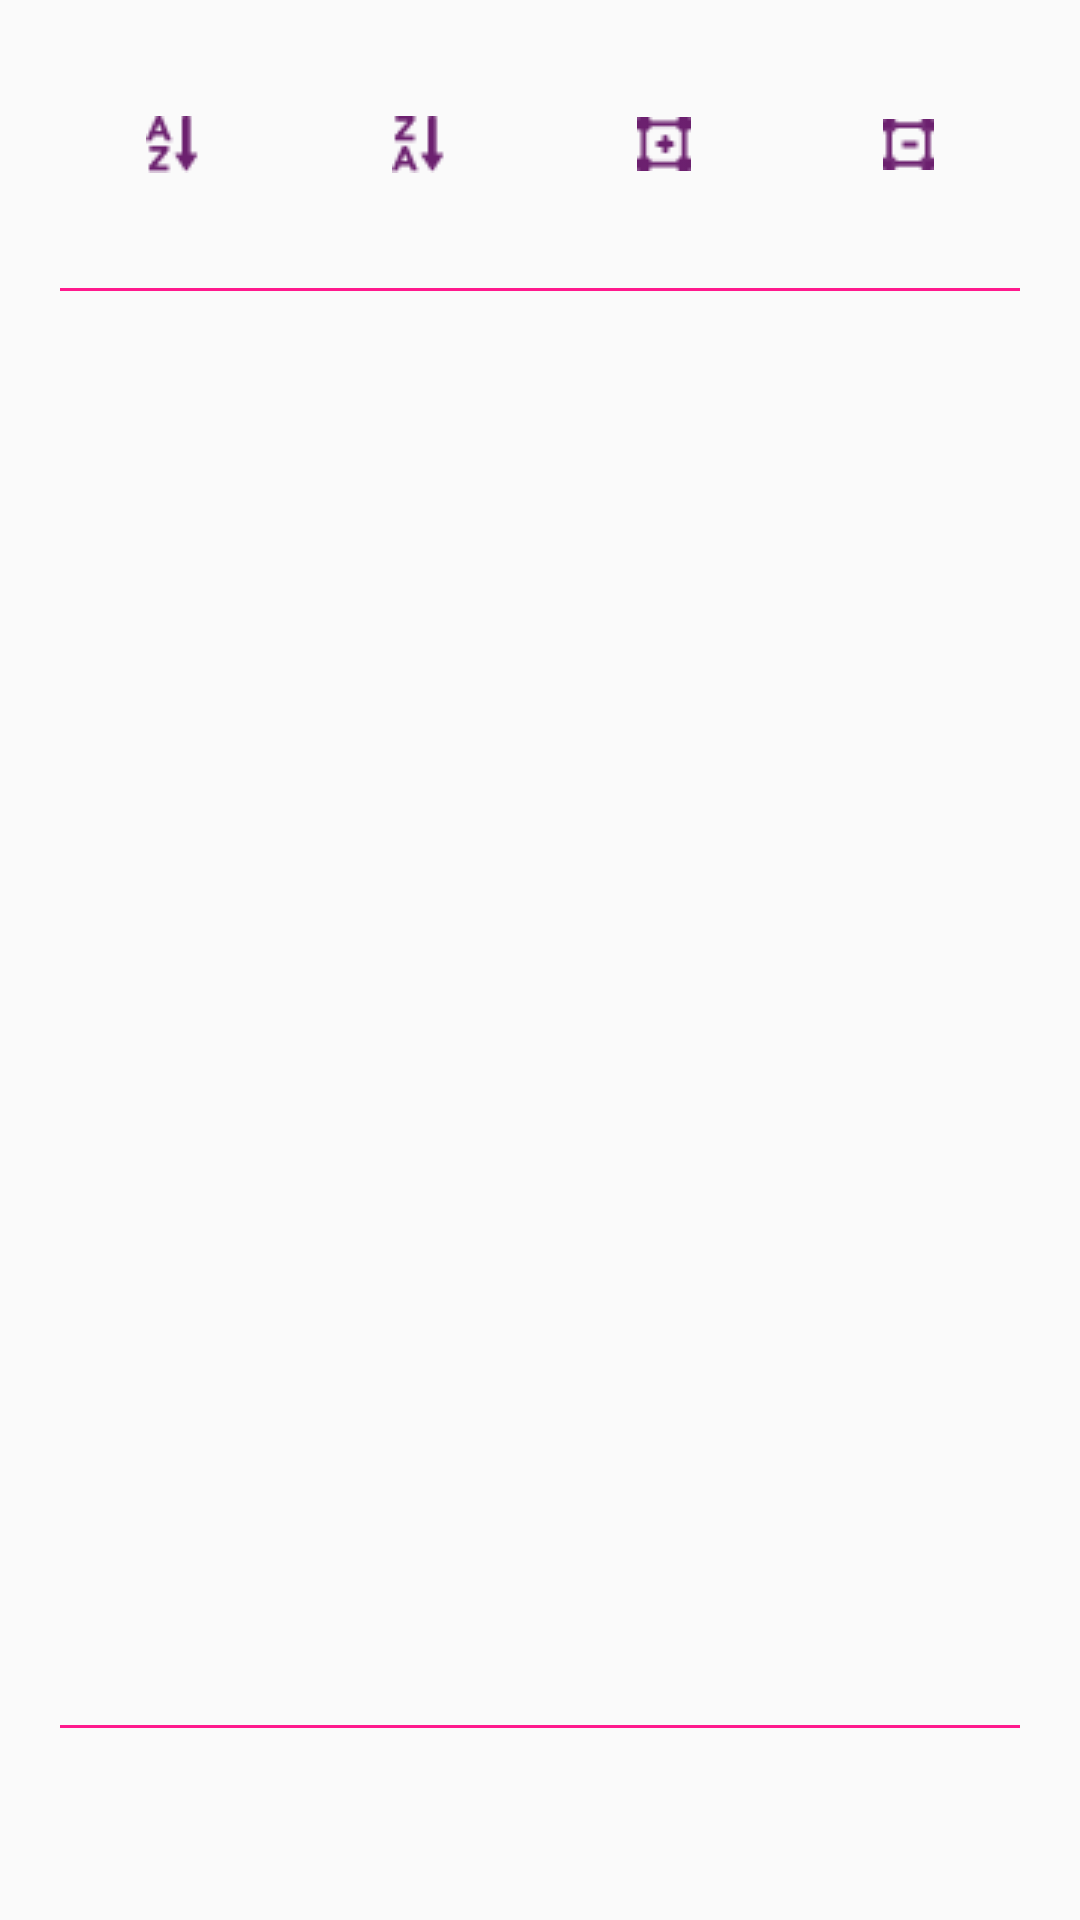

Icon click points for this 1080x1920 phone screenshot, format (x=x, y=y):
area: (x=664, y=144)
area little: (x=908, y=144)
asc state: (x=172, y=144)
desc: (x=418, y=144)
